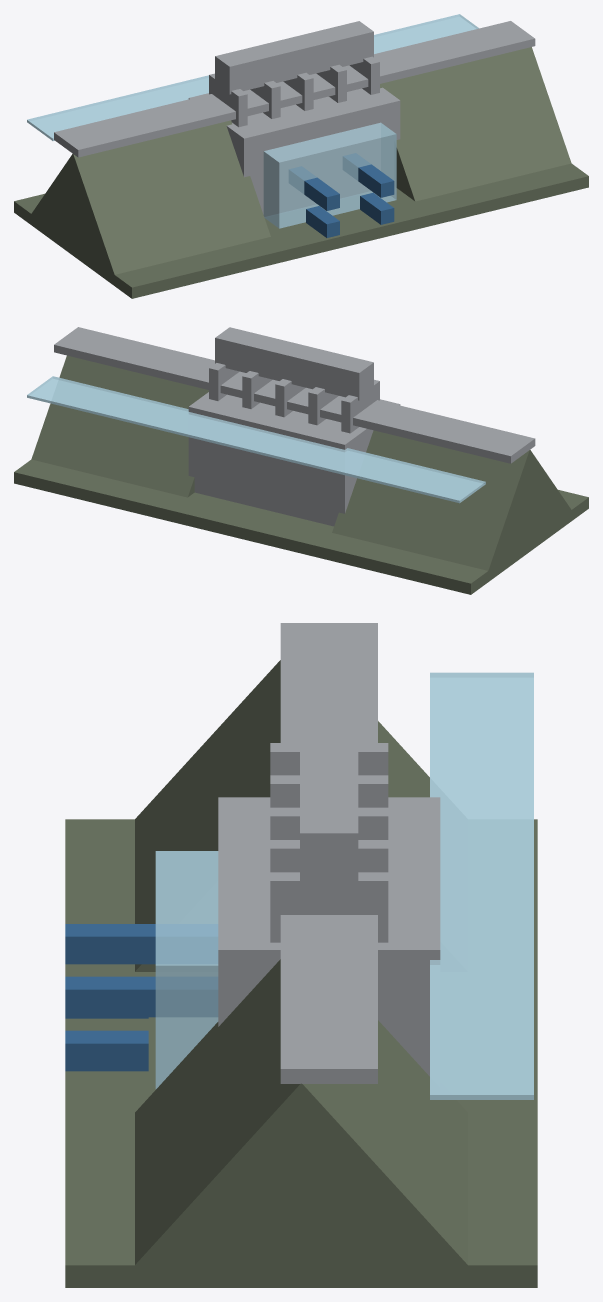
The model's file is lm_29_dap_da_nhim_dran_spillway.glb.
The picture shows the model from 3 angles, top to bottom: view 1: azimuth 30°, elevation 25°; view 2: azimuth 150°, elevation 25°; view 3: azimuth 270°, elevation 25°; orthographic projection. The views are drawn at different scales.
Parts seen in each view (by area): view 1: Earthfill_Dam_Wings, Concrete_Spillway_And_Hoist_Tower, Reservoir_And_Spillway_Water, Twin_Steel_Penstock_Conduits; view 2: Earthfill_Dam_Wings, Concrete_Spillway_And_Hoist_Tower, Reservoir_And_Spillway_Water; view 3: Earthfill_Dam_Wings, Concrete_Spillway_And_Hoist_Tower, Reservoir_And_Spillway_Water, Twin_Steel_Penstock_Conduits.
Part boxes in pixels (x1=…): Earthfill_Dam_Wings: x1=14, y1=47, x2=588, y2=298; Concrete_Spillway_And_Hoist_Tower: x1=54, y1=21, x2=535, y2=216; Reservoir_And_Spillway_Water: x1=27, y1=14, x2=478, y2=228; Twin_Steel_Penstock_Conduits: x1=289, y1=153, x2=394, y2=237; Earthfill_Dam_Wings: x1=14, y1=355, x2=588, y2=594; Concrete_Spillway_And_Hoist_Tower: x1=54, y1=327, x2=535, y2=526; Reservoir_And_Spillway_Water: x1=27, y1=376, x2=485, y2=503; Earthfill_Dam_Wings: x1=65, y1=660, x2=537, y2=1287; Concrete_Spillway_And_Hoist_Tower: x1=218, y1=623, x2=440, y2=1083; Reservoir_And_Spillway_Water: x1=155, y1=672, x2=533, y2=1099; Twin_Steel_Penstock_Conduits: x1=65, y1=924, x2=217, y2=1071.
Size of the model in its own units: 76 by 24 by 34.
